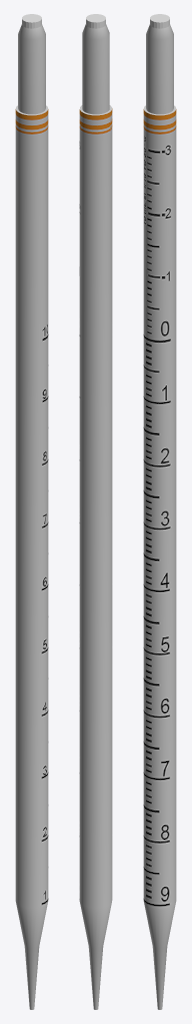
File: 10mlserologicalsplit.fbx
3 views of the same model, side by side, from view 1: azimuth 90°, elevation 25°; view 2: azimuth 150°, elevation 25°; view 3: azimuth 270°, elevation 25° (orthographic).
Parts seen in each view (by area): view 1: serological-pipette-10-ref, serological-pipette-10-fluid-02b.001; view 2: serological-pipette-10-ref, serological-pipette-10-fluid-02b.001; view 3: serological-pipette-10-ref, serological-pipette-10-fluid-02b.001.
Boxes of the visible parts, bbox=[...] form: serological-pipette-10-ref: bbox=[15, 24, 48, 1009]; serological-pipette-10-fluid-02b.001: bbox=[22, 14, 41, 28]; serological-pipette-10-ref: bbox=[79, 24, 112, 1009]; serological-pipette-10-fluid-02b.001: bbox=[86, 14, 105, 28]; serological-pipette-10-ref: bbox=[143, 24, 176, 1009]; serological-pipette-10-fluid-02b.001: bbox=[150, 14, 169, 28].
Size of the model in its own units: 0.00897 by 0.3008 by 0.00897.
Materials: 1 (1 with a texture image).
